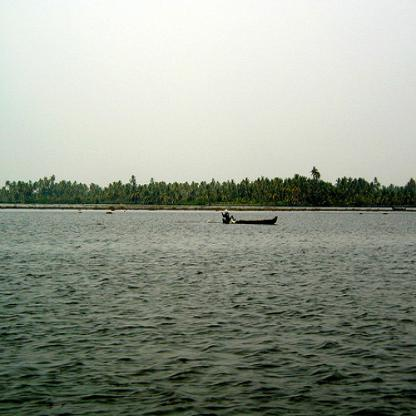boat: (220, 205, 278, 225)
